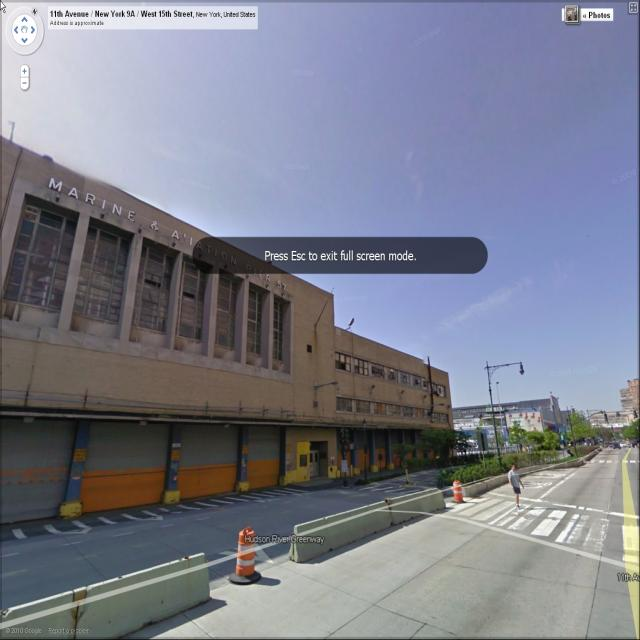b_1: (1, 125, 465, 451), (450, 388, 570, 446), (584, 366, 636, 439)
